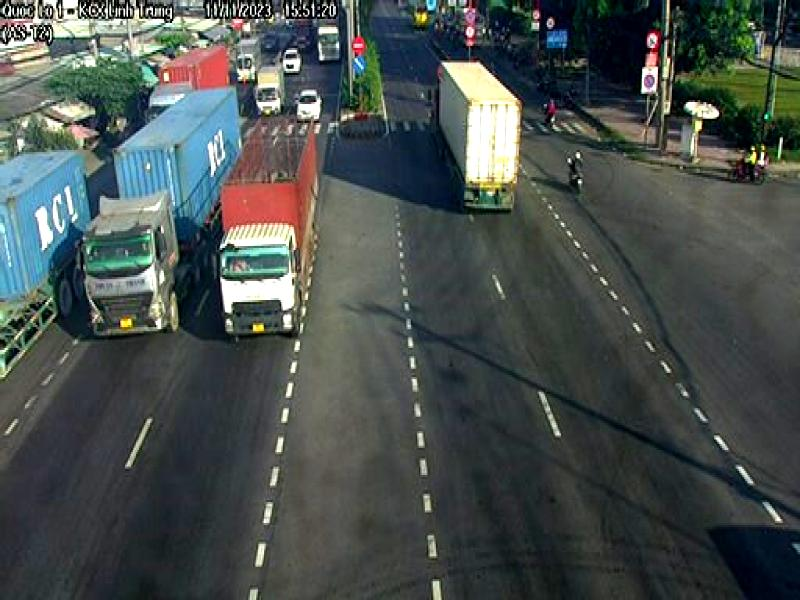truck: (84, 86, 246, 341), (224, 112, 320, 342), (0, 148, 90, 378), (422, 60, 523, 214), (253, 64, 288, 118)
